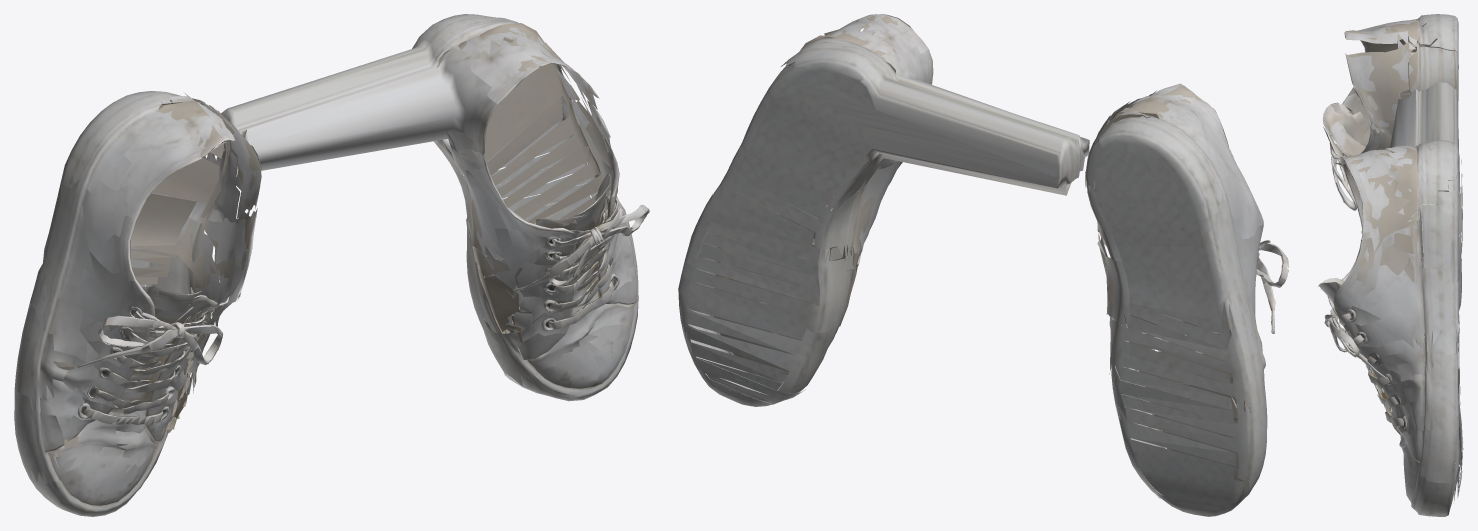
Rendered from adult-base-01.glb.
3 renders of one model, left to right at view 1: azimuth 30°, elevation 25°; view 2: azimuth 150°, elevation 25°; view 3: azimuth 270°, elevation 25°, orthographic. The views are drawn at different scales.
Visible parts, largest first — view 1: geometry_0; view 2: geometry_0; view 3: geometry_0.
Part boxes in pixels (x1,y1,x2,y2): geometry_0: [14, 14, 649, 516]; geometry_0: [678, 14, 1288, 516]; geometry_0: [1318, 14, 1463, 516].
Bounding box in the file's own units: 0.00425 × 0.00265 × 0.00108.
1 material, 1 textured.
